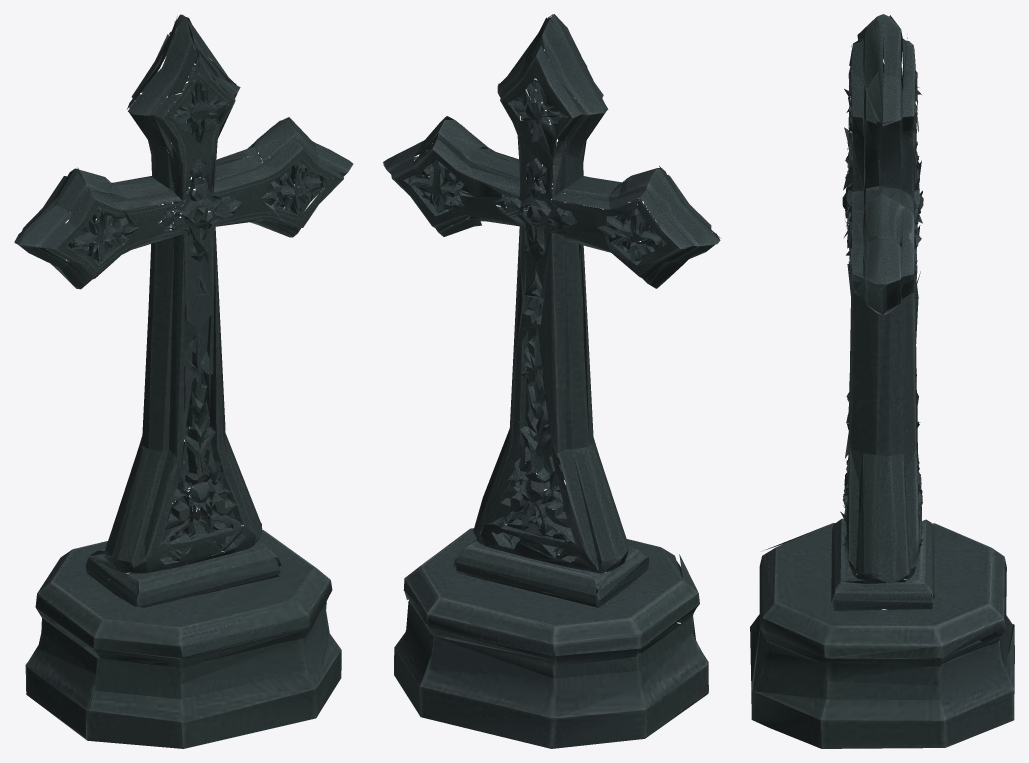
The model's file is grave_b.glb.
The picture shows the model from 3 angles, left to right: view 1: azimuth 30°, elevation 25°; view 2: azimuth 150°, elevation 25°; view 3: azimuth 270°, elevation 25°; orthographic projection.
Parts seen in each view (by area): view 1: Mesh_0; view 2: Mesh_0; view 3: Mesh_0.
Boxes of the visible parts, left/top/right/bottom form: Mesh_0: left=14, top=14, right=353, bottom=748; Mesh_0: left=383, top=14, right=720, bottom=748; Mesh_0: left=750, top=14, right=1014, bottom=748.
Bounding box in the file's own units: 0.7832 × 1.5 × 0.5343.
Materials: 1 (1 with a texture image).
